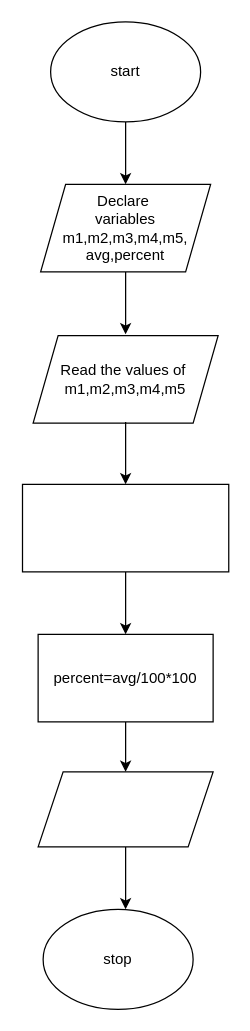
This 250x1031 diagram has some shape labels left out. The box of each missing label's shape, as (x1, y1, x2, y2) in pixels:
avg=m1+m2+m3+m4+m5/100: (21, 483, 229, 572)
print avg,percent: (37, 771, 213, 847)
